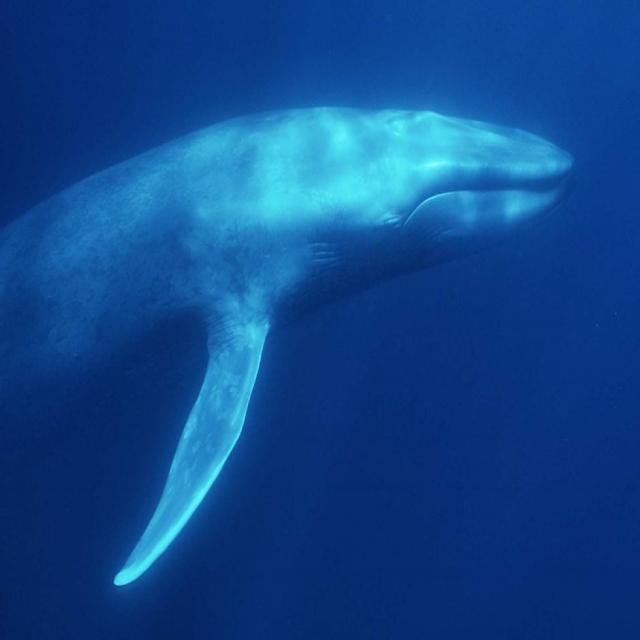blue_whale: (0, 99, 586, 640)
